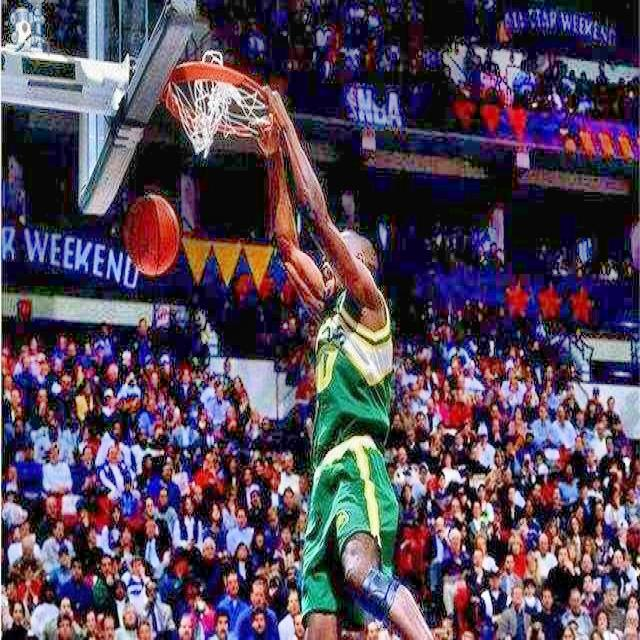board: (126, 194, 180, 276)
